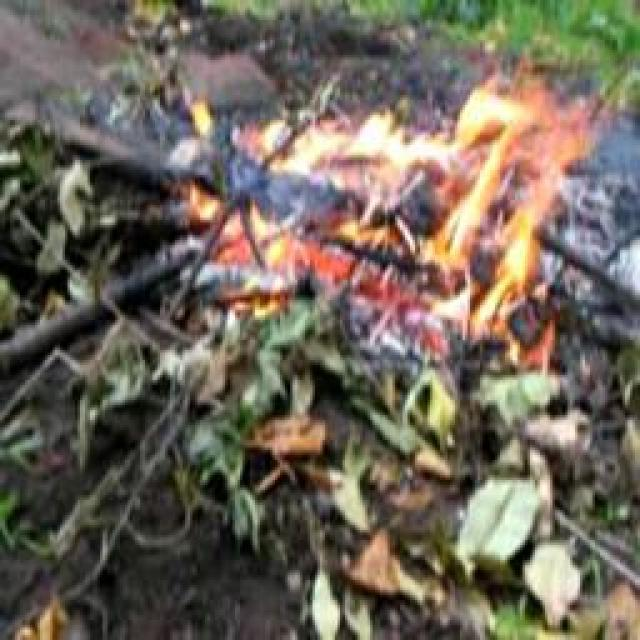Fire: (193, 92, 607, 316)
